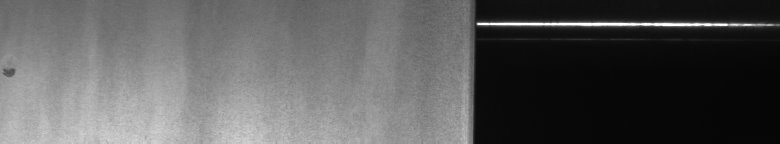fi: (4, 60, 20, 84)
